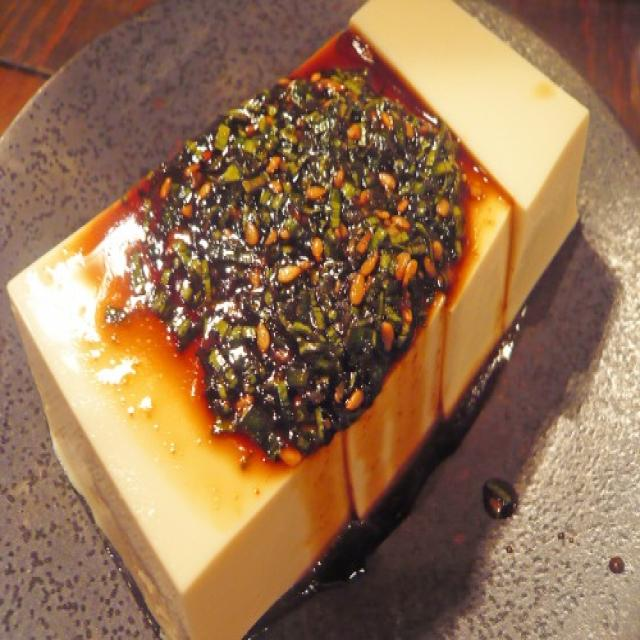豆腐料理: (4, 0, 586, 640)
